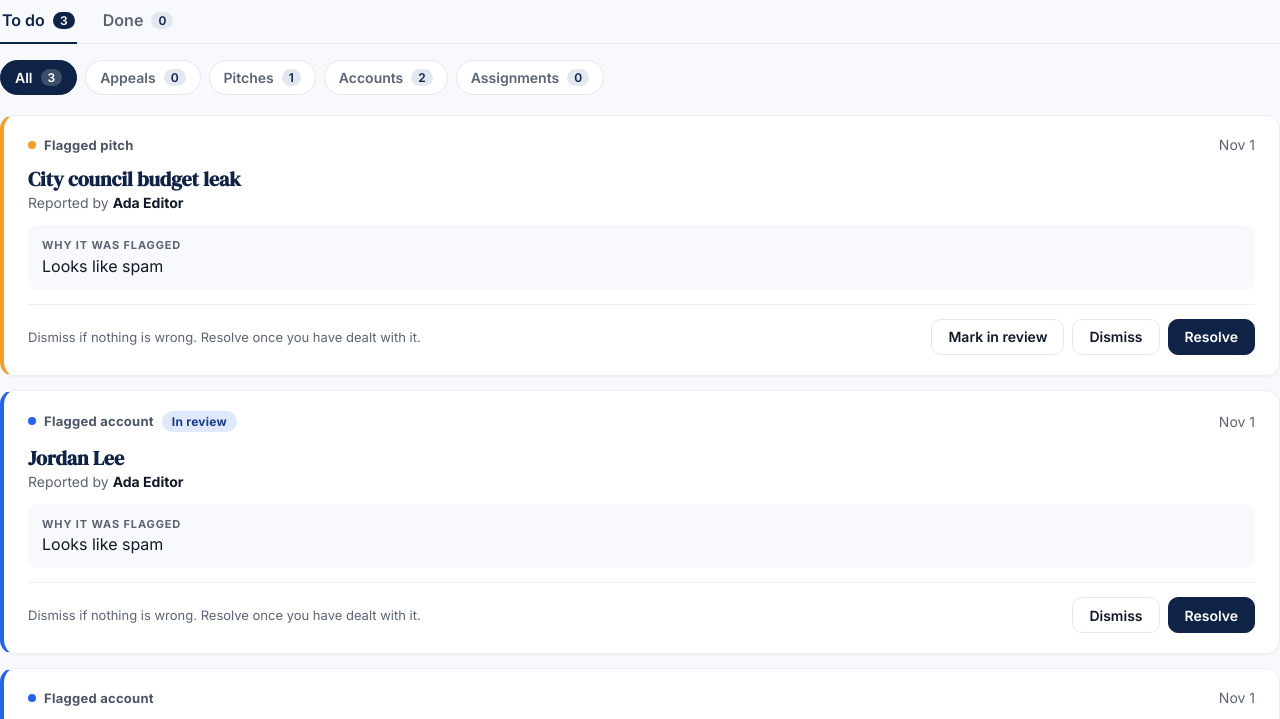
it: AdminInbox › Resolve moves the flag to Done instead of deleting it
Click the 1st button "Resolve": (1211, 336) [1168, 318, 1255, 354]
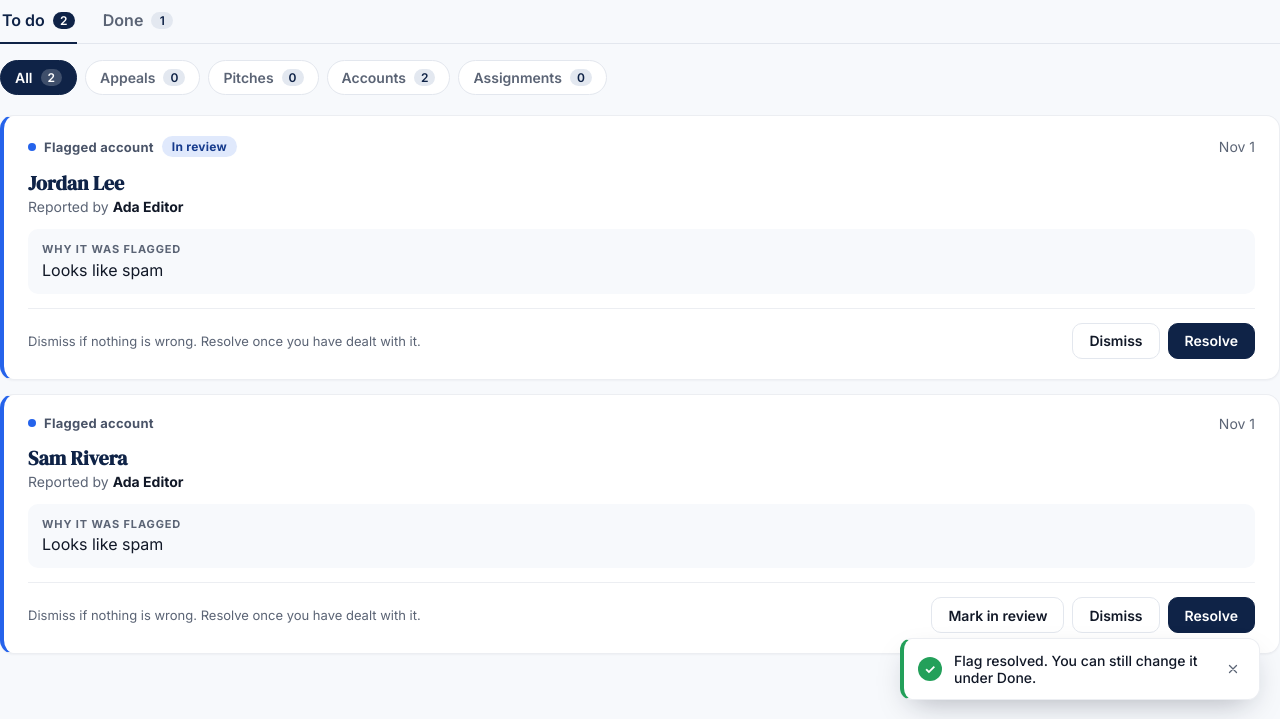
Expected: the text "Flag resolved. You can still change it under Done." is shown, [954, 652, 1203, 686]
Expected: the heading "City council budget leak" is gone
Click the button "Done 1": (138, 22) [101, 0, 175, 44]
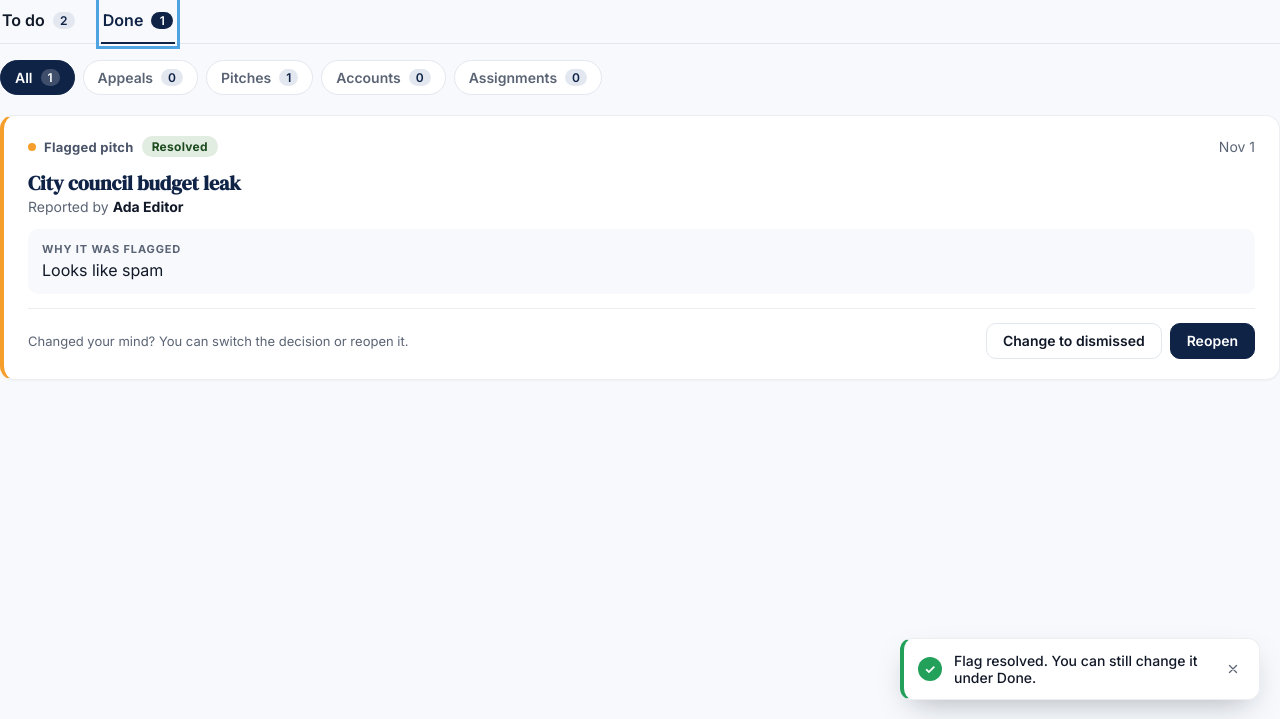
Expected: the text "Resolved" is shown, [142, 136, 218, 157]
Expected: the button "Reopen" is shown, [1170, 322, 1255, 358]
